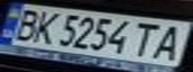2: (69, 13, 97, 51)
4: (106, 17, 136, 56)
5: (51, 11, 81, 48), (87, 15, 112, 53)
A: (145, 23, 193, 62)
B: (3, 6, 45, 42)
K: (24, 9, 63, 45)
T: (127, 20, 166, 58)
